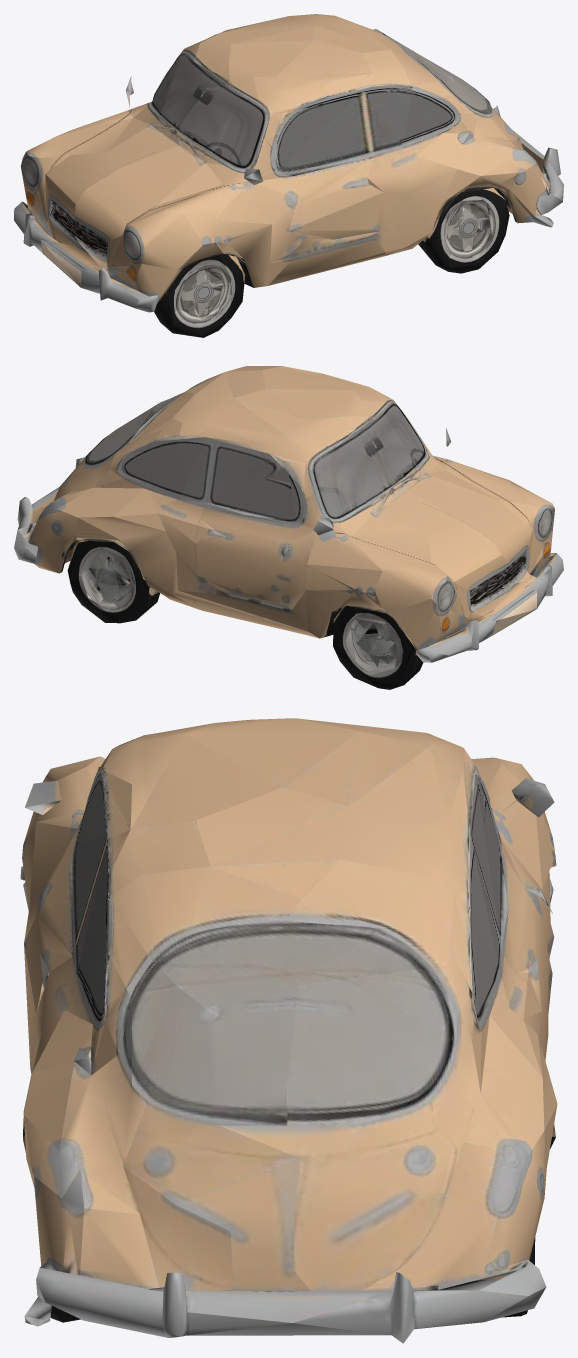
The model's file is getkong-car4.glb.
The picture shows the model from 3 angles, top to bottom: view 1: azimuth 30°, elevation 25°; view 2: azimuth 150°, elevation 25°; view 3: azimuth 270°, elevation 25°; orthographic projection. The views are drawn at different scales.
Visible parts, largest first — view 1: output_unwrapped; view 2: output_unwrapped; view 3: output_unwrapped.
Part boxes in pixels (x1,y1,x2,y2): output_unwrapped: (14,14,563,337); output_unwrapped: (14,366,563,689); output_unwrapped: (20,718,557,1343).
Size of the model in its own units: 1.9 by 0.8288 by 0.9371.
1 material, 1 textured.
